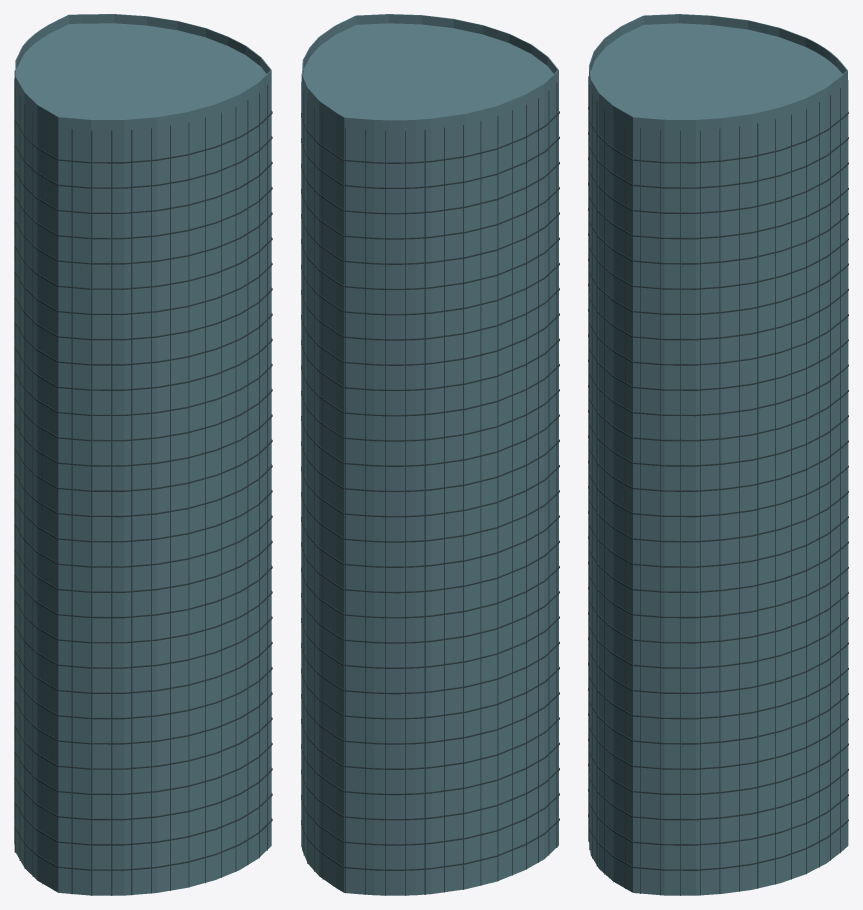
File: koln-triangle.glb
The picture shows the model from 3 angles, left to right: view 1: azimuth 30°, elevation 25°; view 2: azimuth 150°, elevation 25°; view 3: azimuth 270°, elevation 25°; orthographic projection.
Visible parts, largest first — view 1: rounded-triangle-tower, vertical-glazing-mullions, horizontal-glazing-bands, observation-terrace-railing; view 2: rounded-triangle-tower, vertical-glazing-mullions, horizontal-glazing-bands, observation-terrace-railing; view 3: rounded-triangle-tower, horizontal-glazing-bands, vertical-glazing-mullions, observation-terrace-railing.
Boxes of the visible parts, left/top/right/bottom form: rounded-triangle-tower: left=15, top=23, right=271, bottom=895; vertical-glazing-mullions: left=14, top=70, right=267, bottom=895; horizontal-glazing-bands: left=14, top=111, right=272, bottom=870; observation-terrace-railing: left=15, top=14, right=271, bottom=128; rounded-triangle-tower: left=302, top=23, right=558, bottom=895; vertical-glazing-mullions: left=301, top=74, right=557, bottom=895; horizontal-glazing-bands: left=301, top=111, right=559, bottom=870; observation-terrace-railing: left=302, top=14, right=558, bottom=129; rounded-triangle-tower: left=589, top=23, right=847, bottom=895; horizontal-glazing-bands: left=588, top=107, right=848, bottom=870; vertical-glazing-mullions: left=588, top=76, right=848, bottom=895; observation-terrace-railing: left=589, top=14, right=847, bottom=128.
Bounding box in the file's own units: 15.5 × 52.47 × 16.
